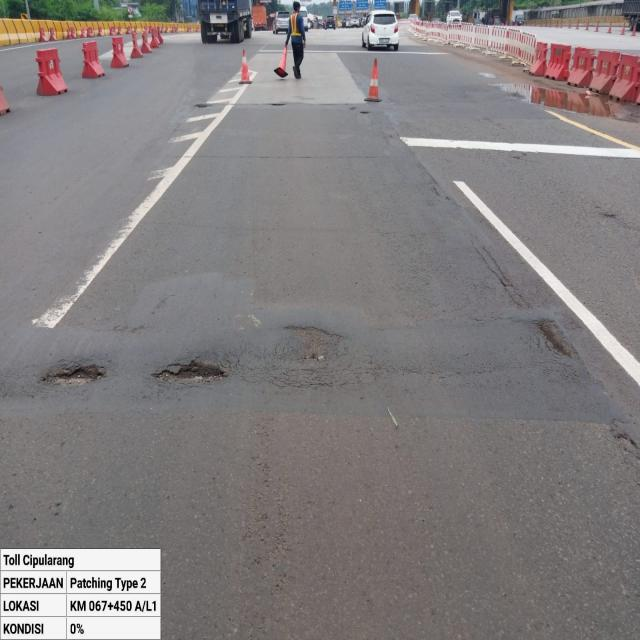Buraco: (485, 78, 640, 124), (147, 357, 236, 388), (528, 317, 583, 361), (279, 322, 334, 364), (34, 362, 110, 390), (475, 69, 501, 80), (192, 102, 214, 110), (268, 102, 288, 108), (357, 110, 372, 116)
